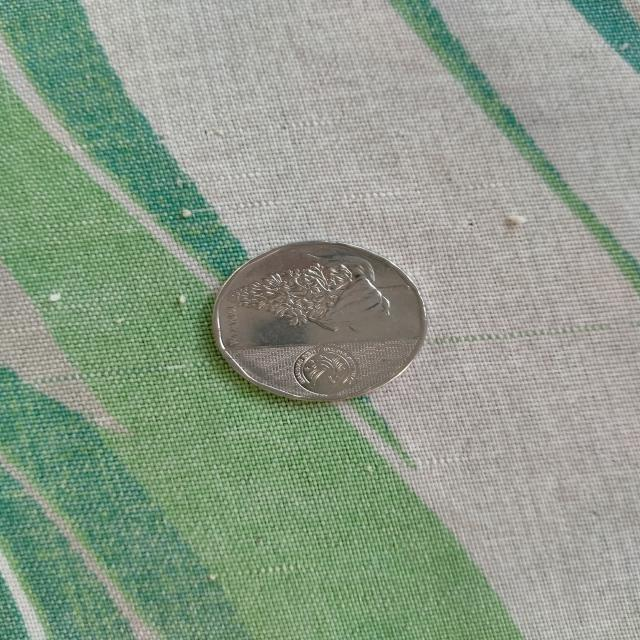10_New_Back: (218, 247, 412, 342)
